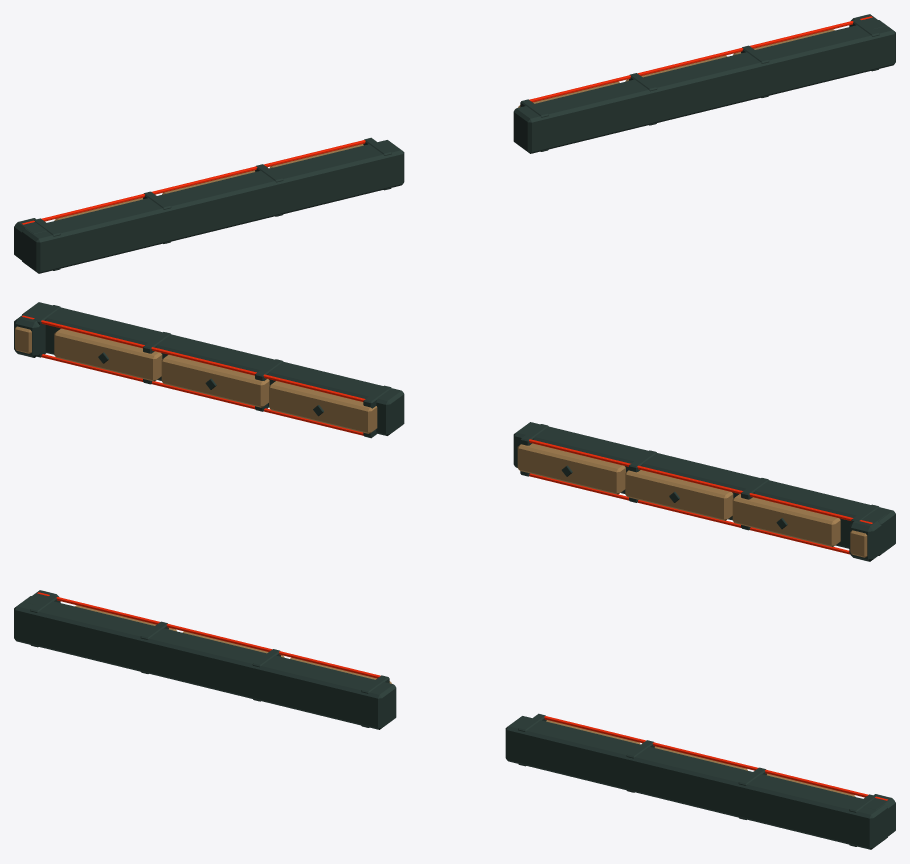
The model's file is ruins_rotor_bar.obj.
3 renders of one model, top to bottom at view 1: azimuth 30°, elevation 25°; view 2: azimuth 150°, elevation 25°; view 3: azimuth 330°, elevation 25°, orthographic.
Visible parts, largest first — view 1: ruins_rotor_bar; view 2: ruins_rotor_bar; view 3: ruins_rotor_bar.
Part boxes in pixels (x1,y1,x2,y2): ruins_rotor_bar: [14, 14, 895, 273]; ruins_rotor_bar: [14, 302, 895, 561]; ruins_rotor_bar: [14, 590, 895, 849].
Size of the model in its own units: 46 by 1.88 by 2.56.
Materials: 3 (3 with a texture image).
